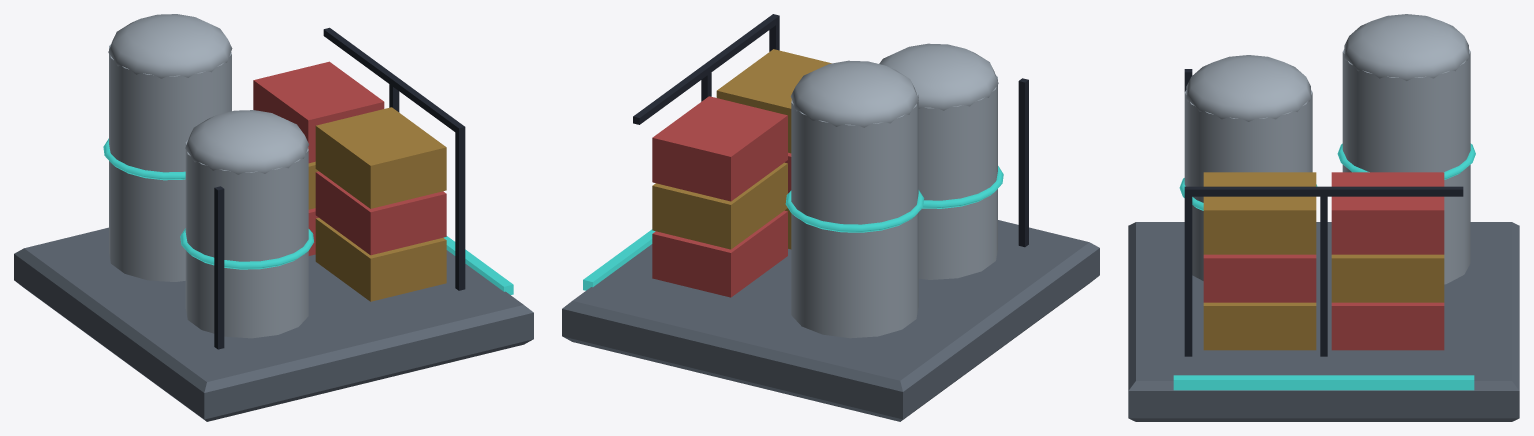
File: infrastructure.glb
3 views of the same model, side by side, from view 1: azimuth 30°, elevation 25°; view 2: azimuth 150°, elevation 25°; view 3: azimuth 270°, elevation 25° (orthographic). The views are drawn at different scales.
Visible parts, largest first — view 1: infrastructure; view 2: infrastructure; view 3: infrastructure.
Boxes of the visible parts, x1,y1,x2,y2 form: infrastructure: [14, 14, 533, 421]; infrastructure: [562, 14, 1099, 421]; infrastructure: [1128, 14, 1519, 421].
Size of the model in its own units: 1.04 by 0.8365 by 1.04.
